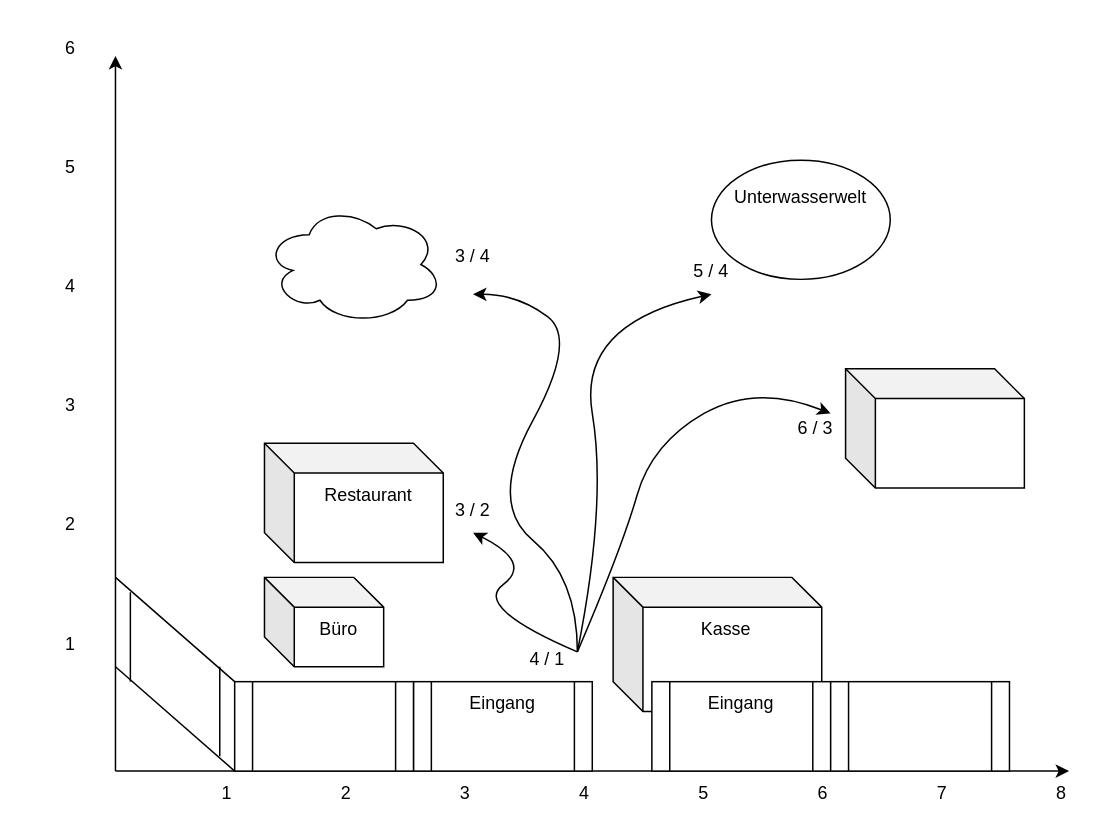
Image size: 1107x840. Some labels were removed from this diagram. The centre of each missing label's shape, as x and y in pixels:
"Affenhaus" belongs at pixel 934 427.
"Polarwelt" belongs at pixel 353 263.
